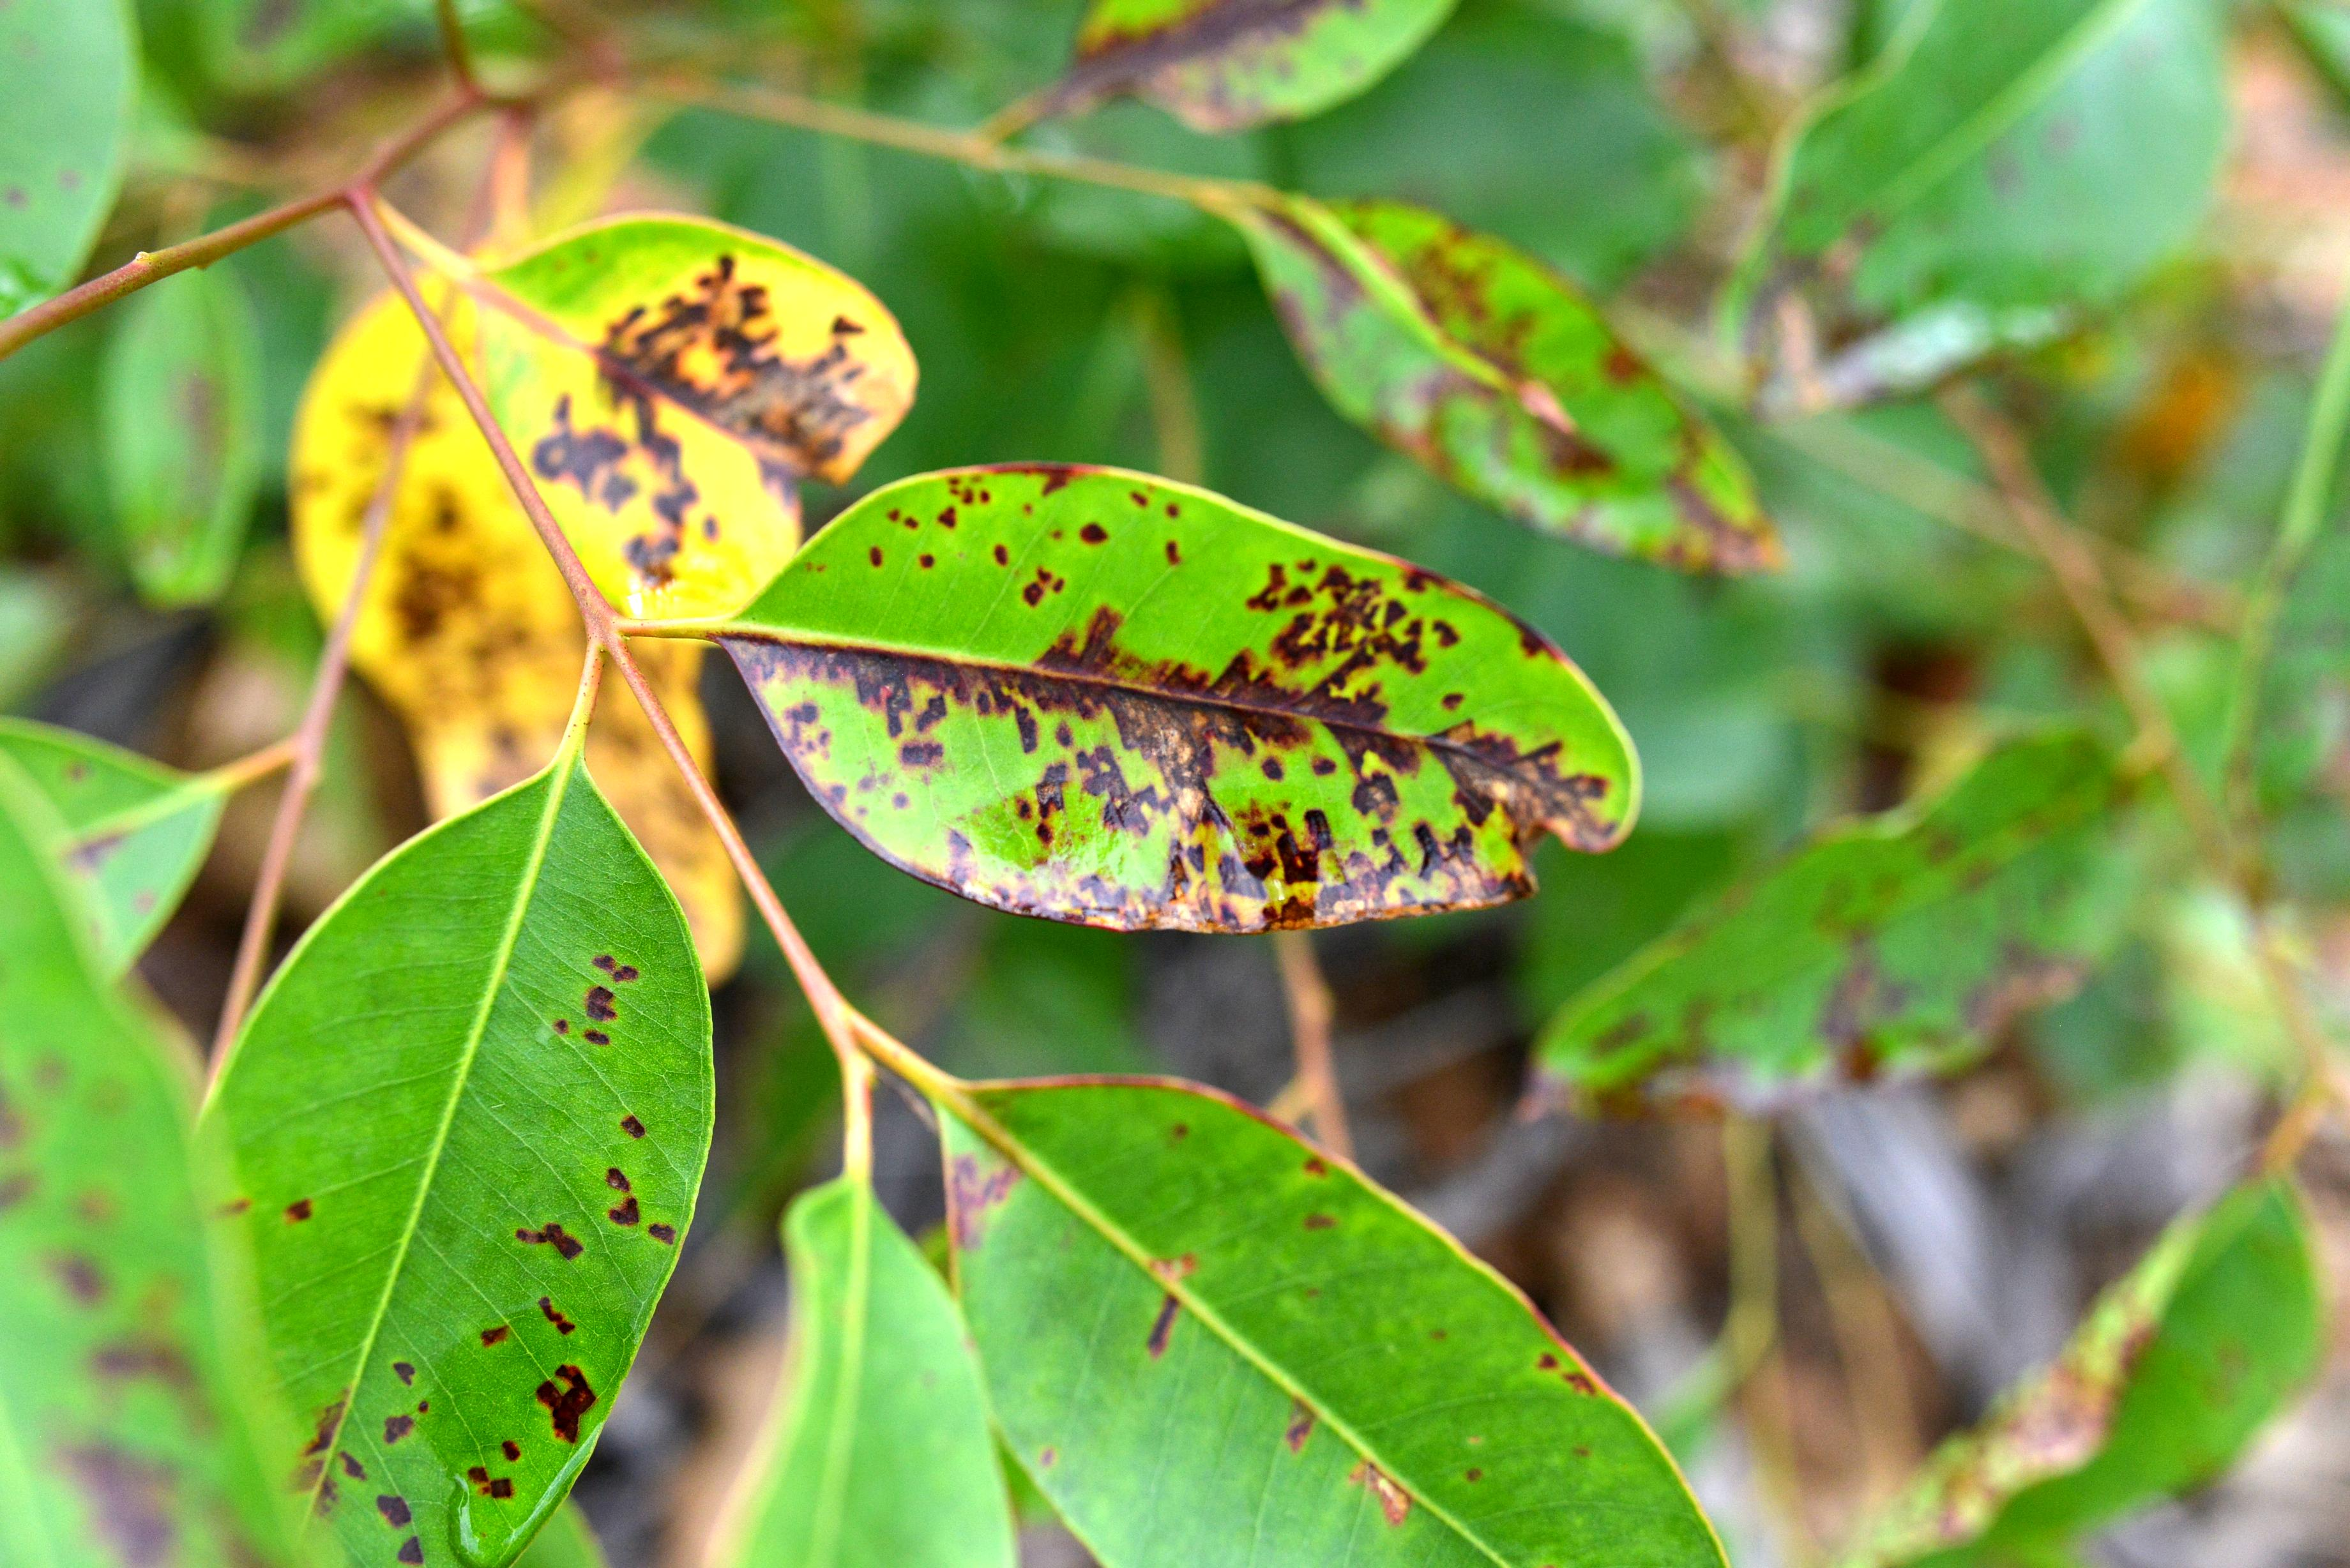Xanthomonas: (749, 465, 1697, 945), (210, 761, 696, 1568), (943, 1073, 1594, 1564), (1510, 744, 2144, 1125), (1724, 0, 2243, 413), (1288, 201, 1785, 576), (1862, 1157, 2312, 1568), (0, 980, 234, 1568), (551, 259, 940, 450), (1046, 0, 1458, 131), (110, 276, 262, 614), (201, 0, 332, 108)
